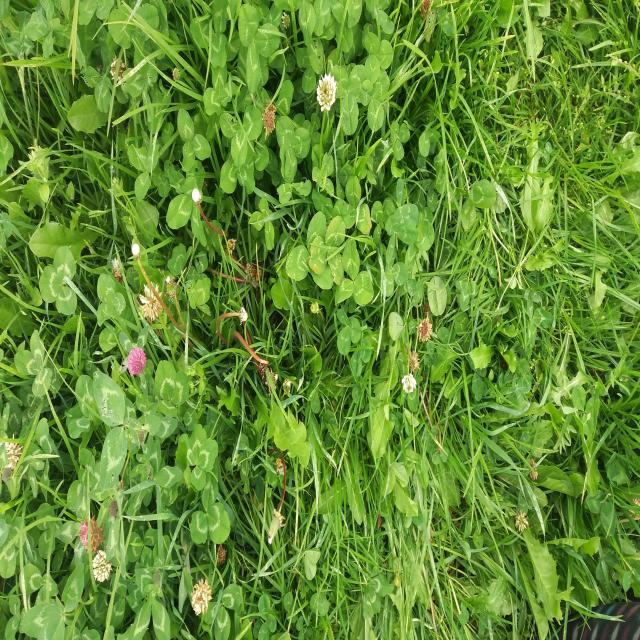Four Leaf Clover: (177, 423, 219, 491)
